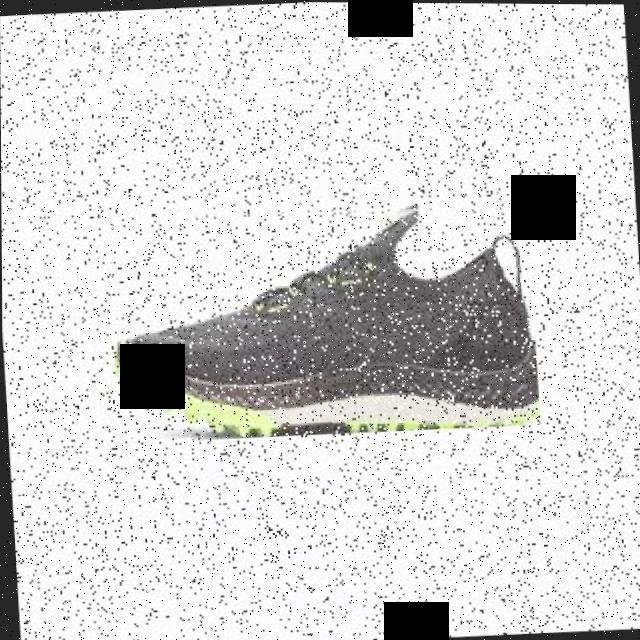shoe: (104, 194, 540, 446)
